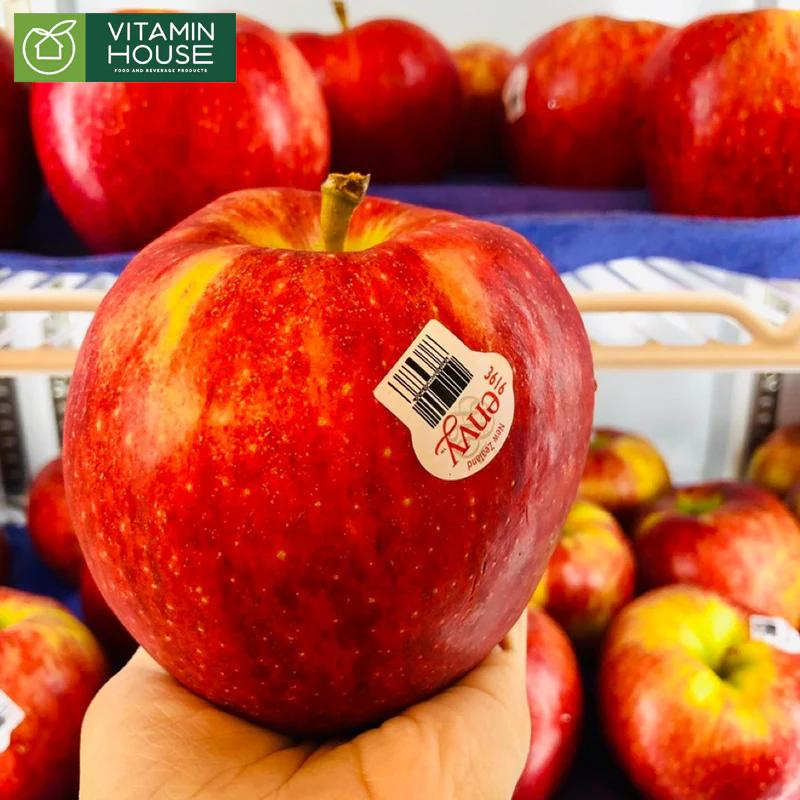apples: (65, 163, 597, 742), (603, 586, 800, 800), (498, 6, 654, 210), (659, 6, 799, 219), (312, 0, 475, 163)
